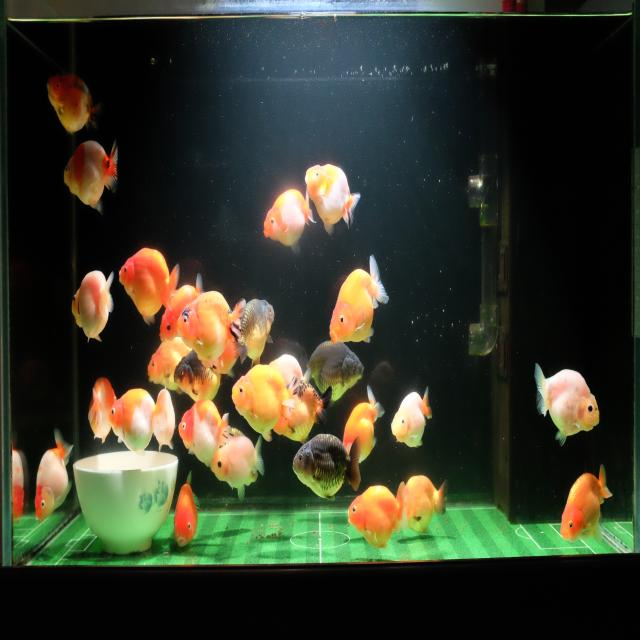Goldfish: (532, 359, 602, 447), (327, 251, 390, 347), (176, 289, 247, 370), (231, 362, 299, 446), (117, 244, 181, 330), (291, 431, 362, 502), (303, 159, 363, 238), (62, 137, 120, 217), (559, 462, 614, 546), (346, 478, 409, 550), (301, 336, 365, 404), (33, 425, 75, 527), (107, 386, 168, 456), (210, 432, 266, 506), (272, 379, 332, 446), (262, 186, 316, 258), (342, 381, 386, 466), (45, 70, 101, 135), (396, 472, 451, 538), (158, 270, 206, 345), (177, 402, 229, 469), (71, 268, 114, 345), (232, 294, 276, 366), (172, 350, 227, 407), (389, 384, 434, 452), (146, 334, 192, 392), (172, 471, 200, 552), (87, 374, 118, 444), (154, 389, 174, 454)
